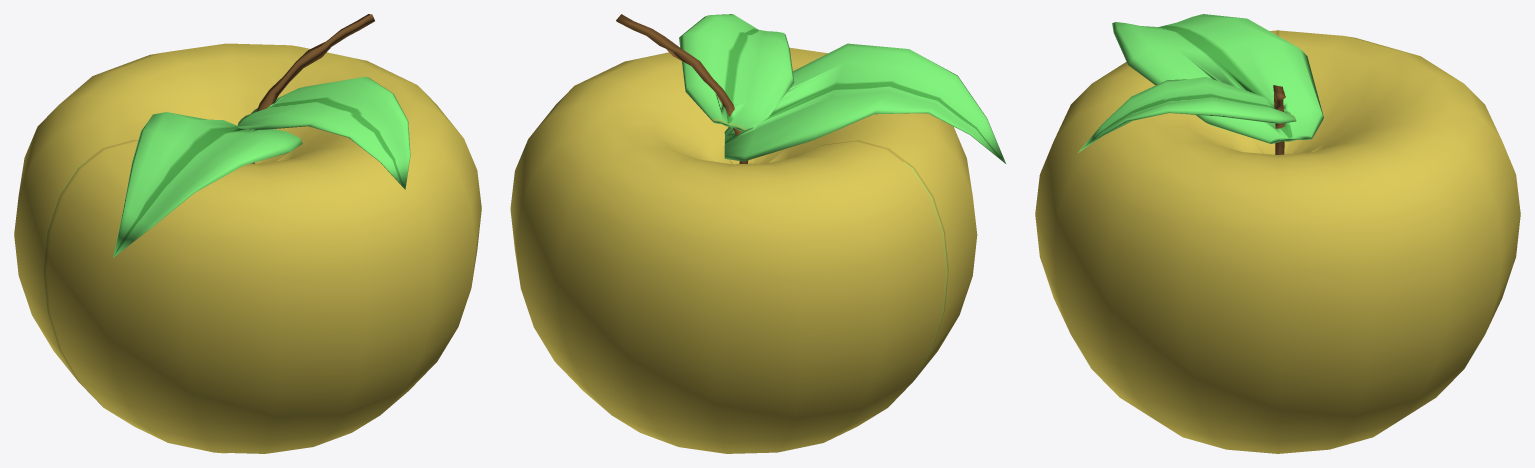
File: golden_apple.obj
3 views of the same model, side by side, from view 1: azimuth 30°, elevation 25°; view 2: azimuth 150°, elevation 25°; view 3: azimuth 270°, elevation 25° (orthographic). The views are drawn at different scales.
Visible parts, largest first — view 1: Sphere.001_Sphere.003; view 2: Sphere.001_Sphere.003; view 3: Sphere.001_Sphere.003.
Boxes of the visible parts, x1,y1,x2,y2 form: Sphere.001_Sphere.003: [14, 14, 481, 453]; Sphere.001_Sphere.003: [510, 14, 1005, 453]; Sphere.001_Sphere.003: [1035, 14, 1520, 453].
Bounding box in the file's own units: 0.2 × 0.1744 × 0.2.
Materials: 1 (1 with a texture image).
